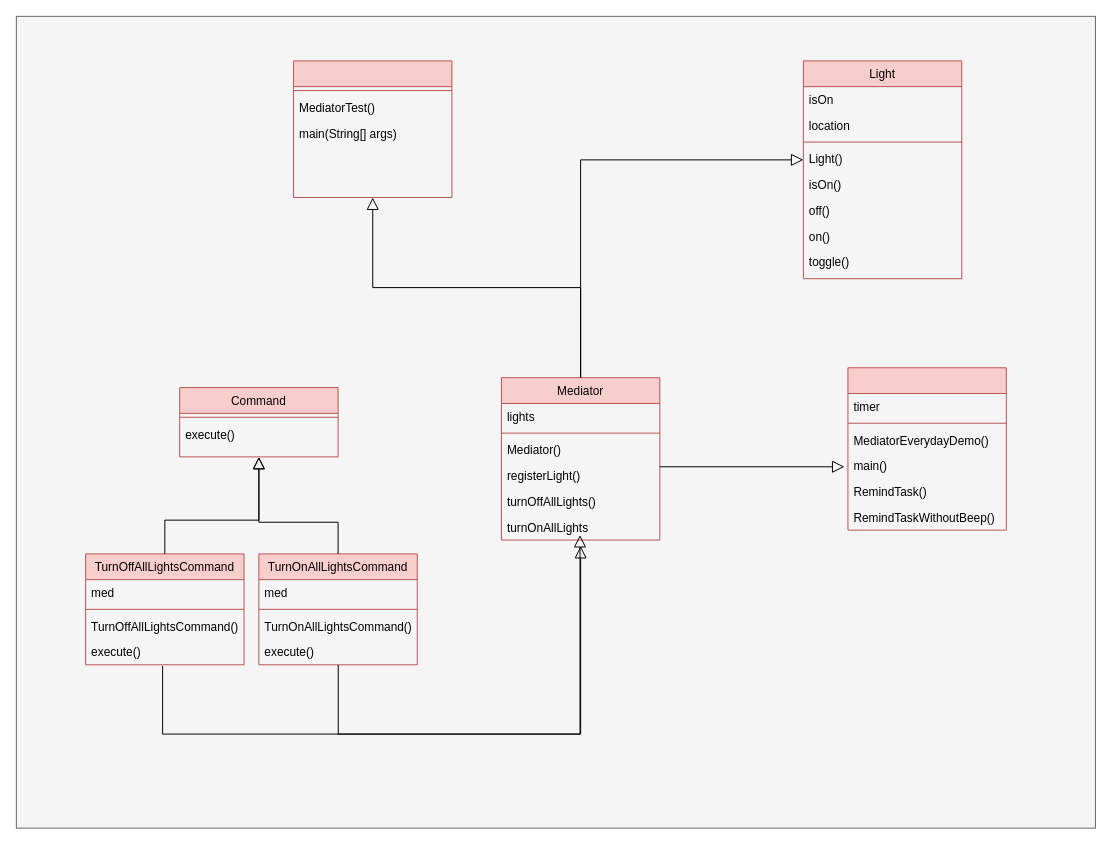
This 1112x844 diagram has some shape labels left out. Here are the shapes that lost their labels. From the top down, the box of each, then its label:
(293, 60, 452, 198): MediatorDemo
(847, 367, 1006, 530): MediatorEverdayDemo
